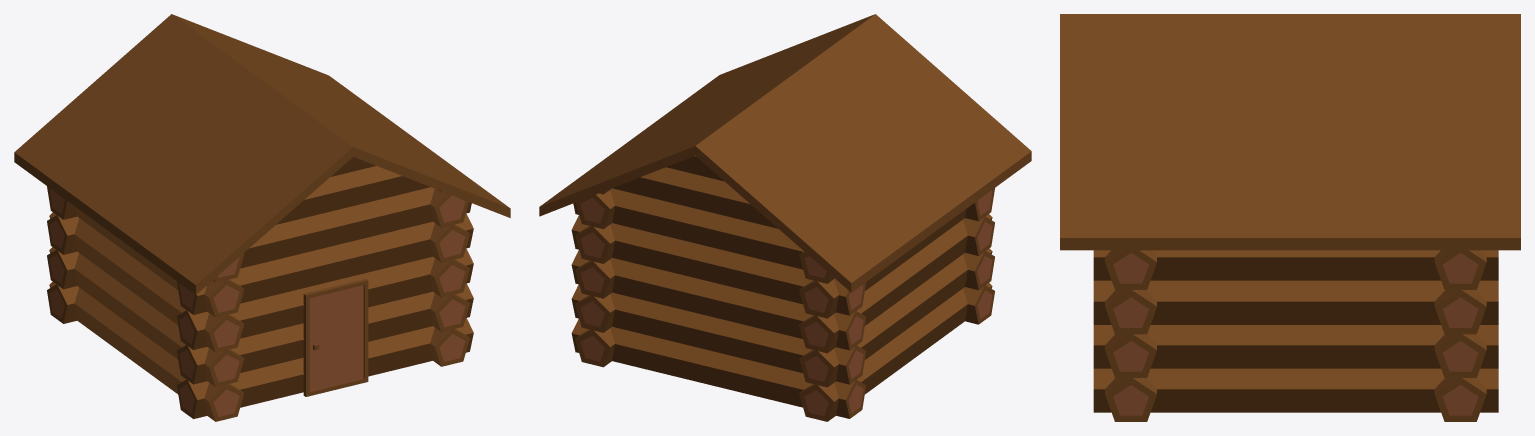
The model's file is house_1.fbx.
3 renders of one model, left to right at view 1: azimuth 30°, elevation 25°; view 2: azimuth 150°, elevation 25°; view 3: azimuth 270°, elevation 25°, orthographic. The views are drawn at different scales.
Visible parts, largest first — view 1: Cylinder.006; view 2: Cylinder.006; view 3: Cylinder.006.
Boxes of the visible parts, box(x1,y1,x2,y2) form: Cylinder.006: box(14, 14, 510, 421); Cylinder.006: box(539, 14, 1031, 421); Cylinder.006: box(1060, 14, 1520, 421).
Size of the model in its own units: 648 by 500 by 648.
